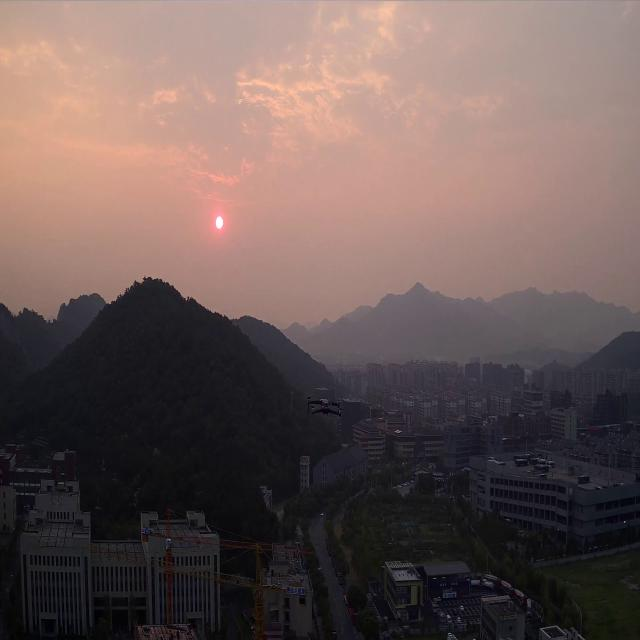UAV: (306, 394, 345, 419)
